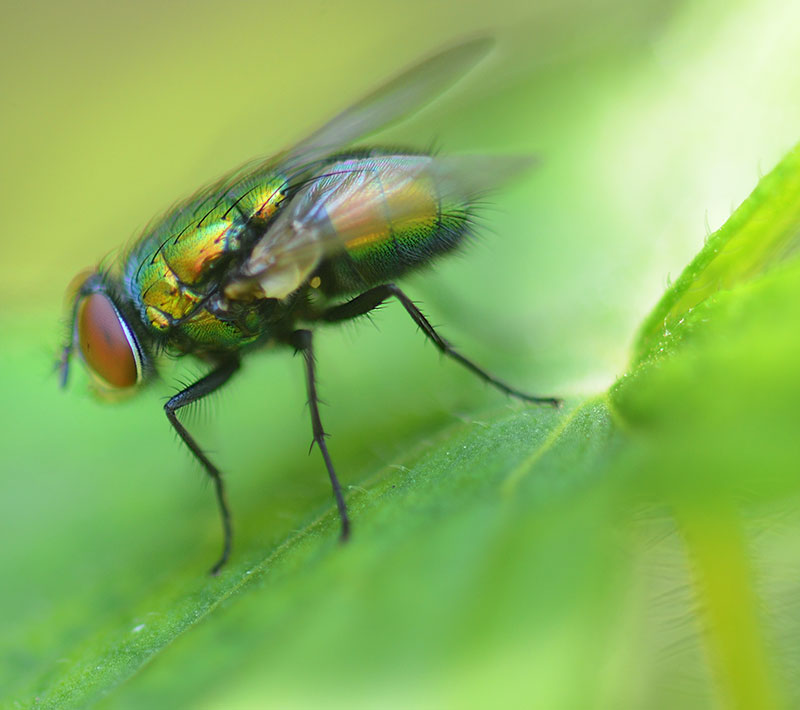green bottles flies: (33, 12, 618, 592)
